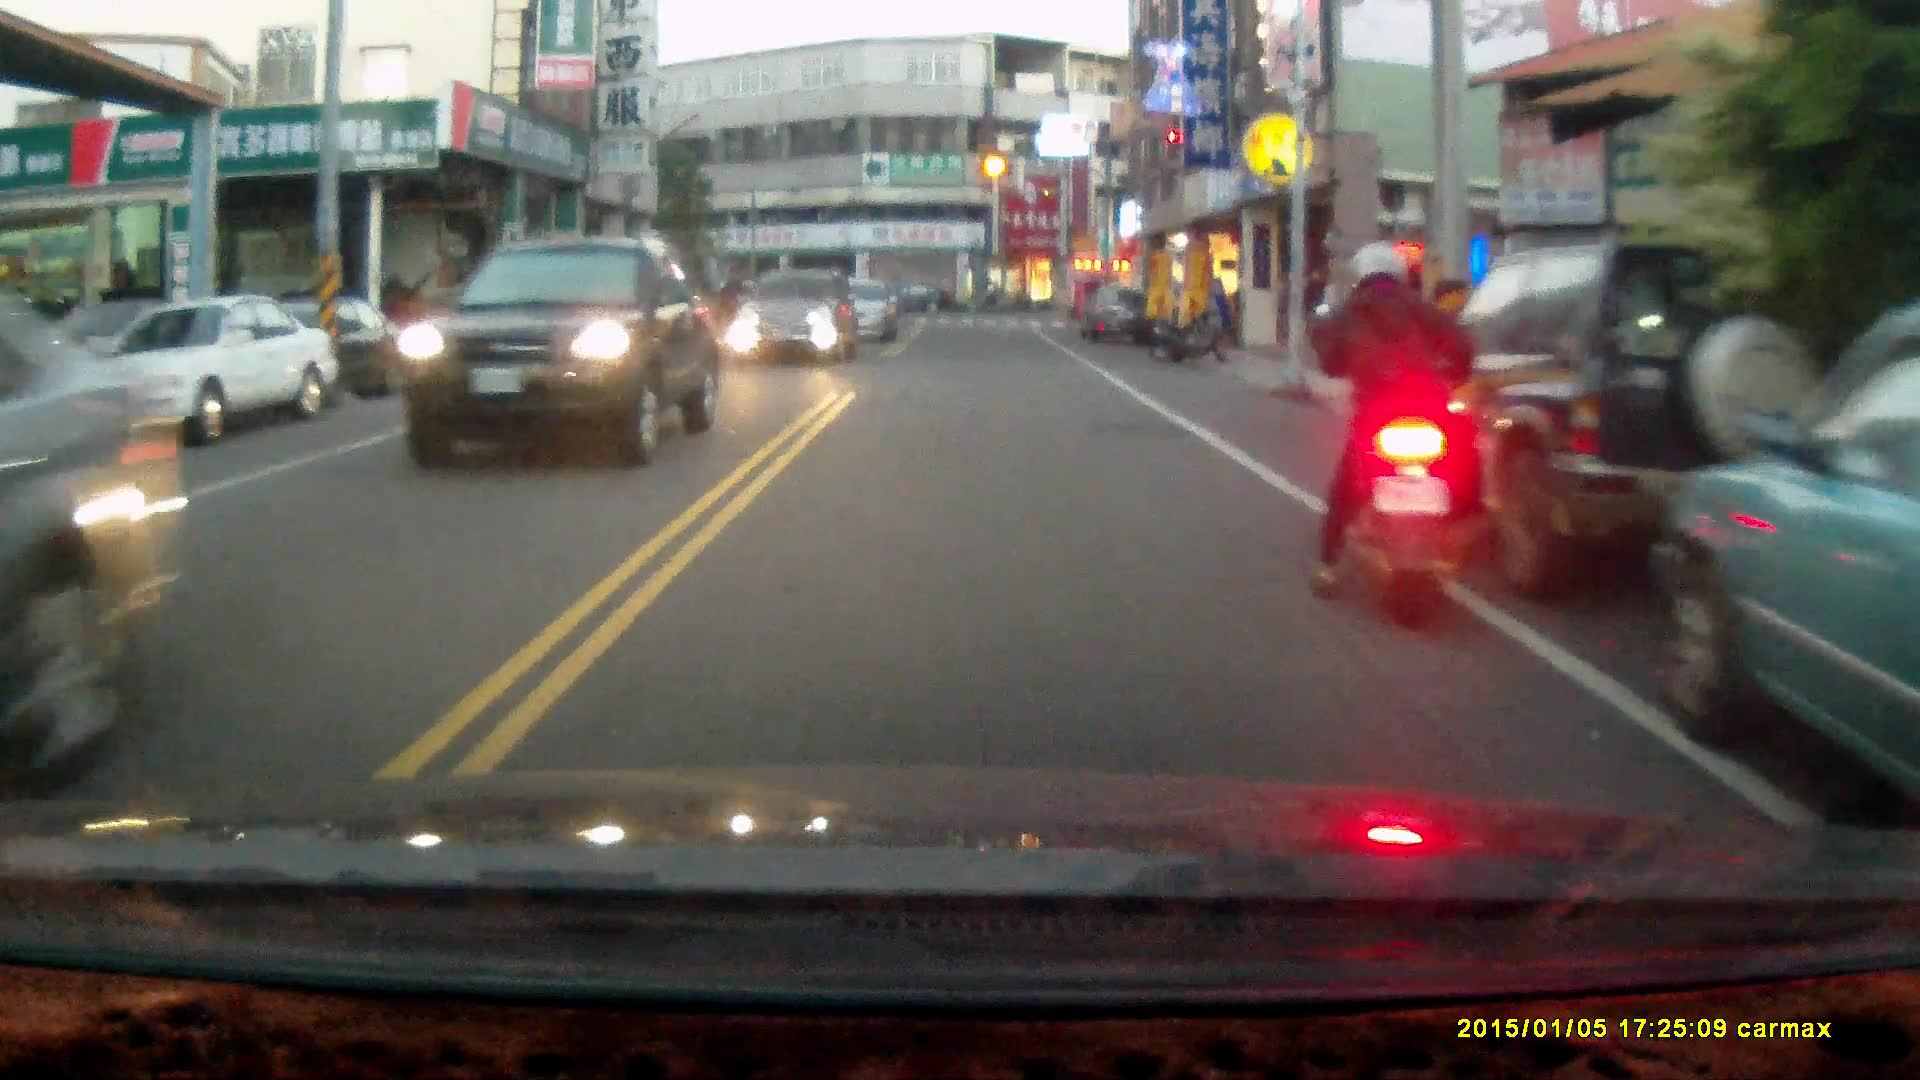rider: (1302, 239, 1511, 630)
vehicle: (1372, 243, 1887, 611), (1634, 300, 1920, 802), (1, 286, 172, 803), (394, 242, 711, 474), (70, 296, 345, 445), (725, 276, 864, 372), (1081, 286, 1152, 348)
